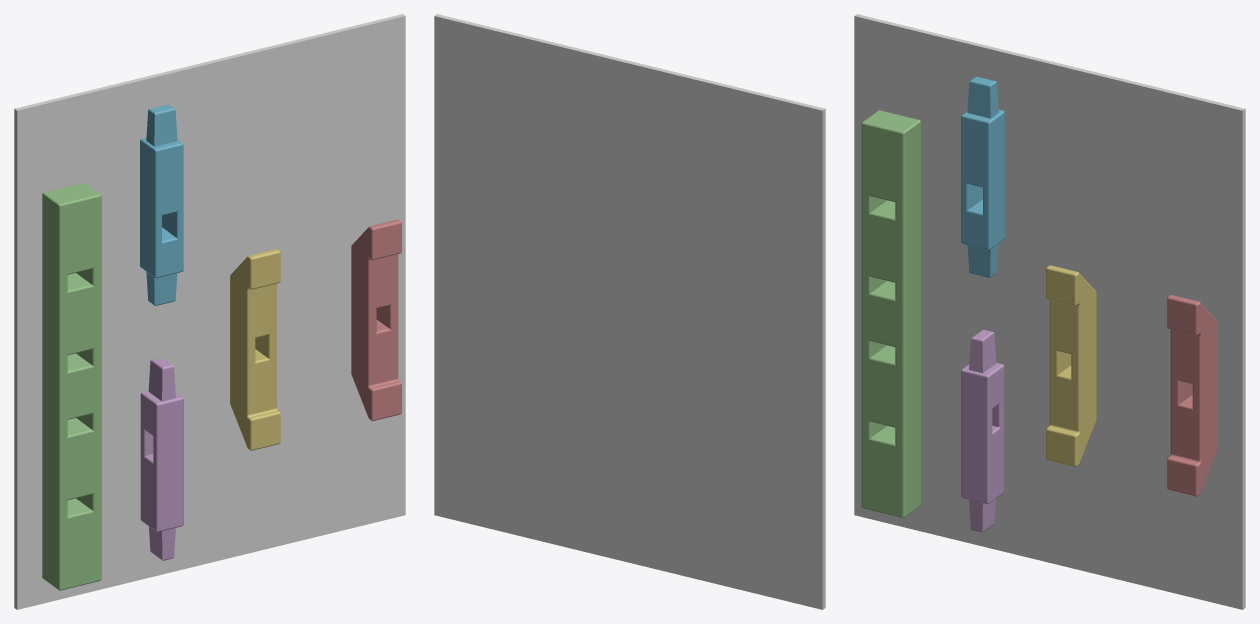
Rendered from pickup_layout.glb.
3 views of the same model, side by side, from view 1: azimuth 30°, elevation 25°; view 2: azimuth 150°, elevation 25°; view 3: azimuth 330°, elevation 25° (orthographic).
Parts seen in each view (by area): view 1: world, 6.obj, 0.obj, 1.obj, 2.obj, 3.obj; view 2: world; view 3: world, 6.obj, 0.obj, 1.obj, 2.obj, 3.obj.
Boxes of the visible parts, <box> form: world: <box>14,14,405,609</box>; 6.obj: <box>42,182,101,590</box>; 0.obj: <box>351,219,401,421</box>; 1.obj: <box>230,249,280,450</box>; 2.obj: <box>140,104,183,305</box>; 3.obj: <box>140,357,183,560</box>; world: <box>434,14,825,609</box>; world: <box>854,14,1245,609</box>; 6.obj: <box>861,110,920,518</box>; 0.obj: <box>1167,295,1217,496</box>; 1.obj: <box>1046,265,1096,466</box>; 2.obj: <box>961,76,1004,277</box>; 3.obj: <box>961,329,1004,532</box>.
Bounding box in the file's own units: 16.02 × 19.68 × 1.72.
